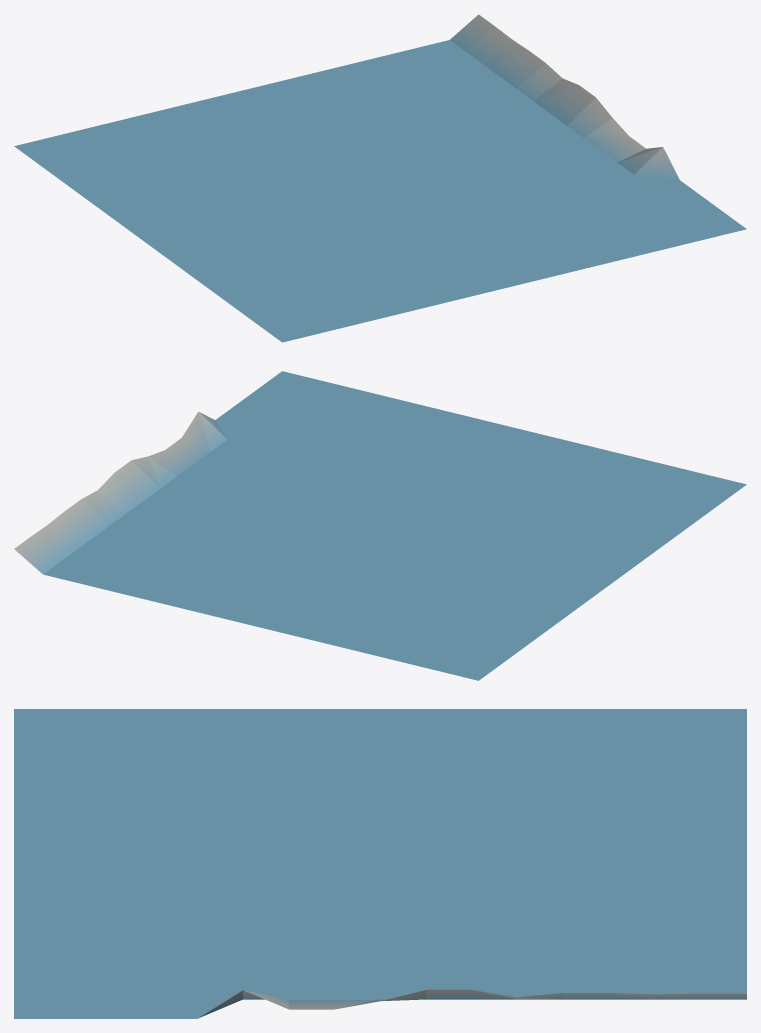
3 renders of one model, top to bottom at view 1: azimuth 30°, elevation 25°; view 2: azimuth 150°, elevation 25°; view 3: azimuth 270°, elevation 25°, orthographic. The views are drawn at different scales.
Bounding box in the file's own units: 32 × 1.4 × 32.
